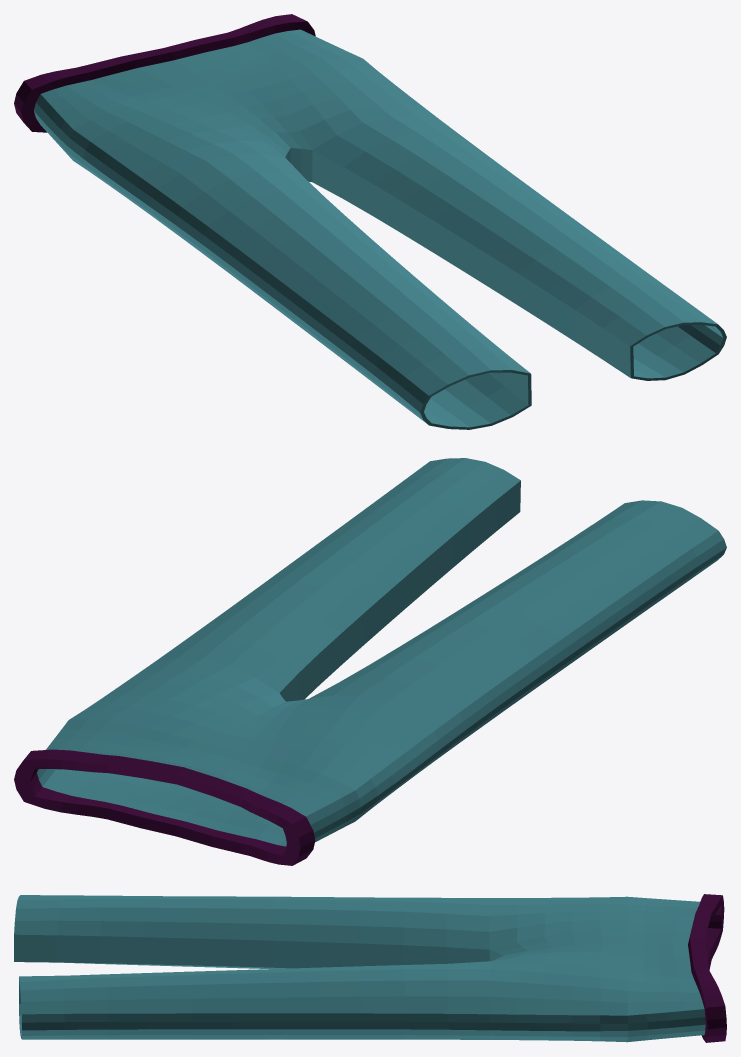
File: Pants 2.fbx
3 views of the same model, one above another, from view 1: azimuth 30°, elevation 25°; view 2: azimuth 150°, elevation 25°; view 3: azimuth 270°, elevation 25° (orthographic). The views are drawn at different scales.
Parts seen in each view (by area): view 1: Node 0; view 2: Node 0; view 3: Node 0.
Part boxes in pixels (<box>): Node 0: <box>14,14,726,429</box>; Node 0: <box>14,458,726,865</box>; Node 0: <box>14,894,726,1042</box>.
Bounding box in the file's own units: 1.5 × 0.1335 × 0.6329.
